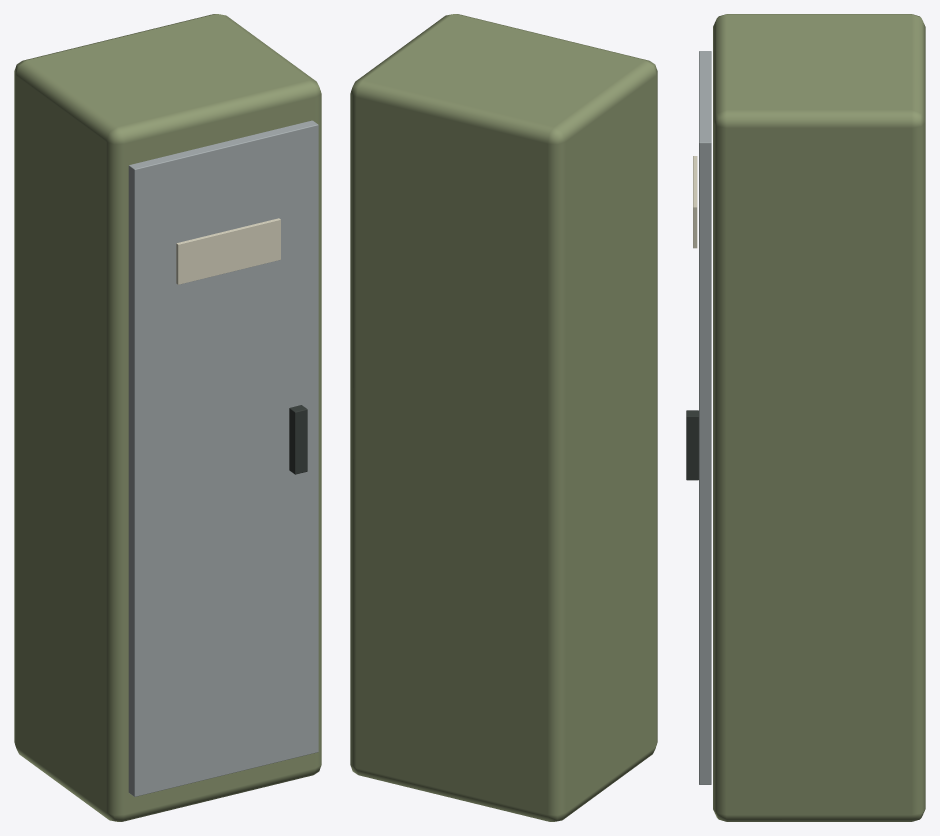
File: research-and-crafting-progression-research-locker-a97eef20__2884.glb
3 renders of one model, left to right at view 1: azimuth 30°, elevation 25°; view 2: azimuth 150°, elevation 25°; view 3: azimuth 270°, elevation 25°, orthographic. The views are drawn at different scales.
Parts seen in each view (by area): view 1: research-locker, door/metal; view 2: research-locker; view 3: research-locker, door/metal.
Part boxes in pixels (x1,y1,x2,y2): research-locker: (14, 14, 321, 821); door/metal: (128, 120, 318, 796); research-locker: (350, 14, 657, 821); research-locker: (686, 14, 925, 821); door/metal: (699, 51, 711, 784).
Size of the model in its own units: 0.5 by 1.55 by 0.4725.
